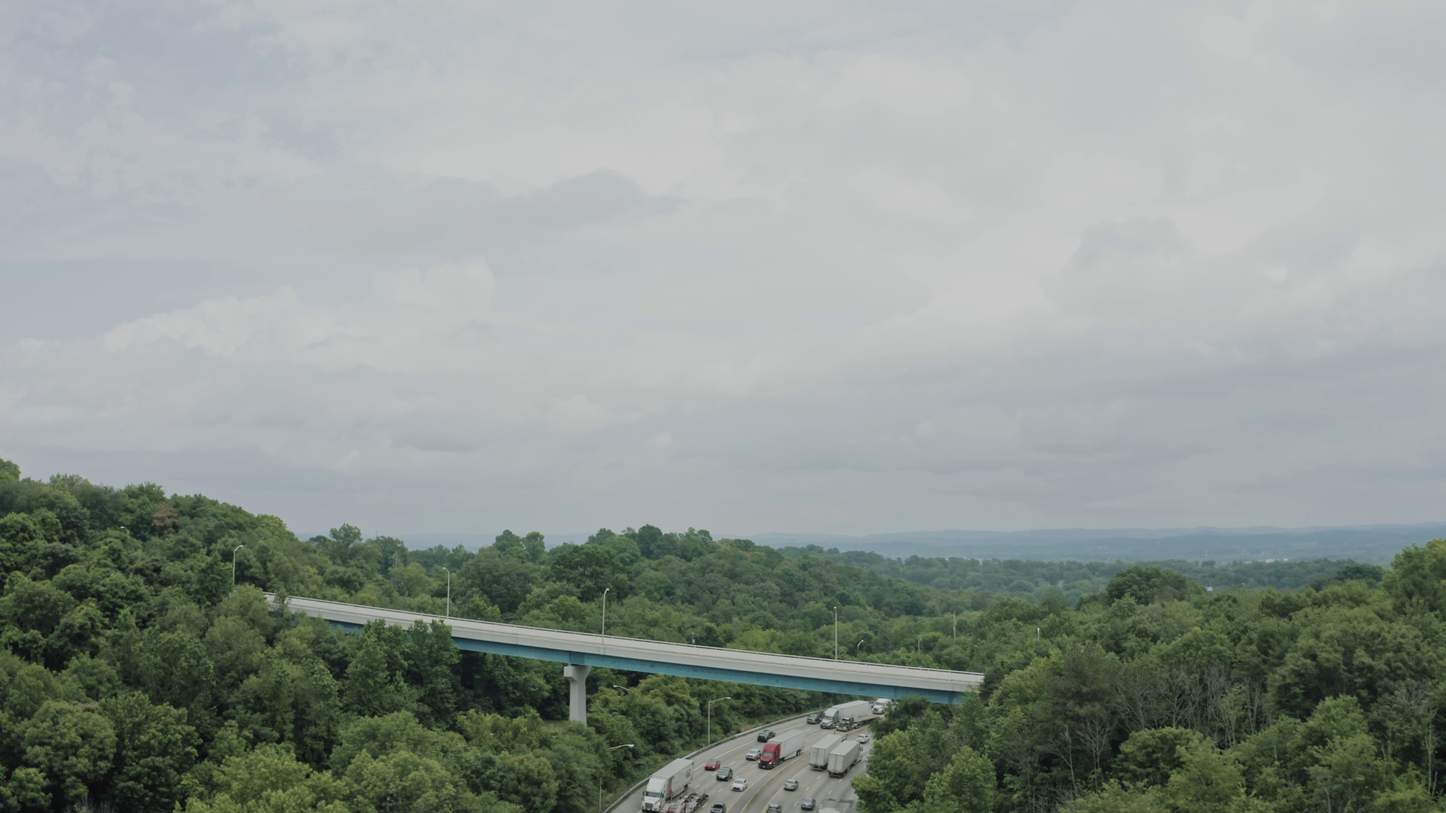Vehicle: (639, 780, 670, 812), (759, 742, 782, 772), (819, 706, 841, 731), (872, 698, 892, 715), (836, 717, 854, 732), (731, 777, 748, 792), (716, 767, 733, 781), (757, 730, 775, 743), (704, 759, 721, 771), (746, 748, 761, 761), (801, 798, 816, 811), (784, 779, 799, 791), (710, 802, 726, 813), (807, 714, 822, 724), (767, 803, 782, 813), (856, 734, 870, 744), (771, 803, 782, 813)
